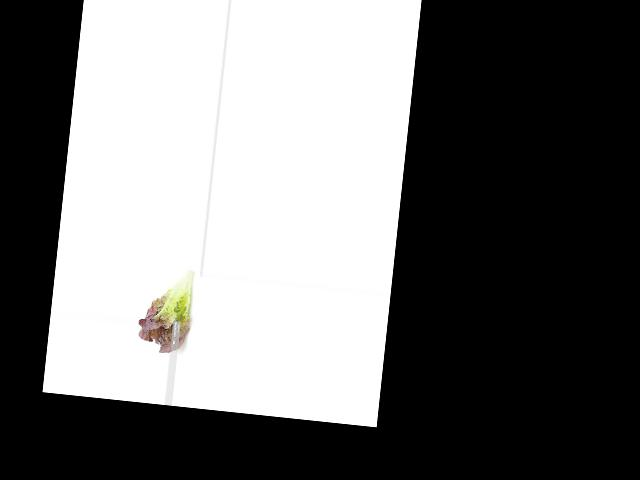lettuce: (135, 262, 200, 357)
